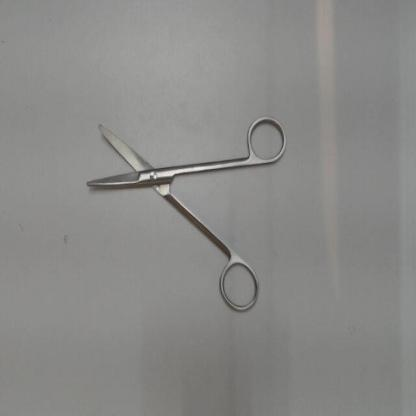Curved Mayo Scissors: (80, 109, 289, 322)
